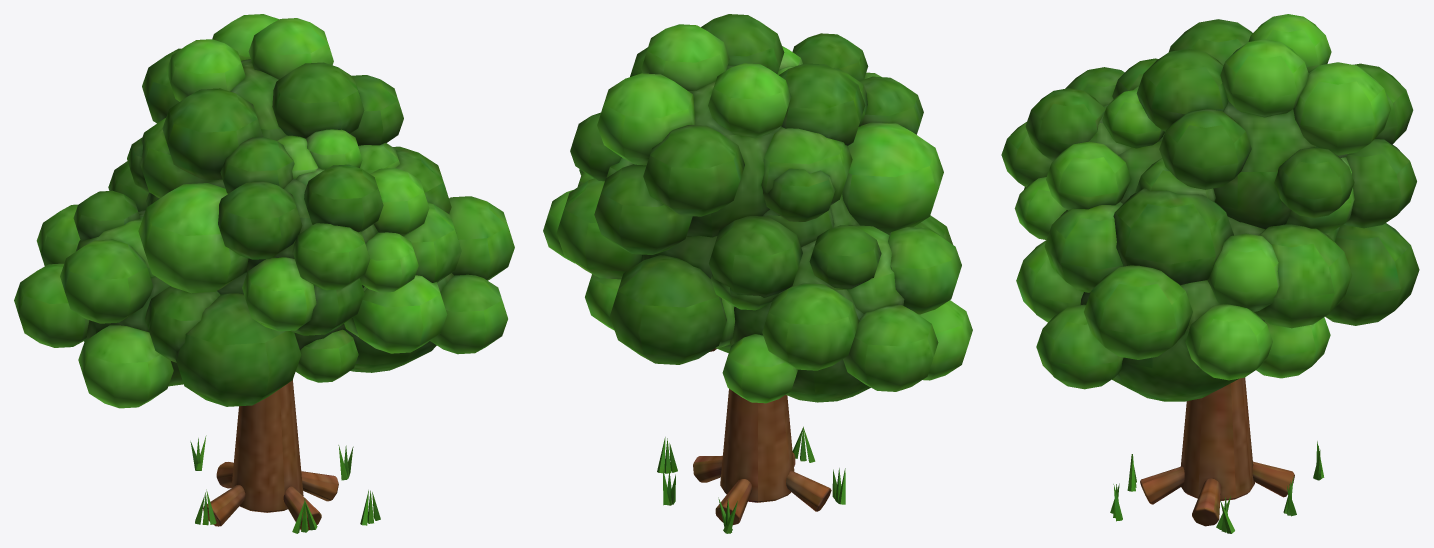
Rendered from hazelnut_tree.glb.
The picture shows the model from 3 angles, left to right: view 1: azimuth 30°, elevation 25°; view 2: azimuth 150°, elevation 25°; view 3: azimuth 270°, elevation 25°; orthographic projection. The views are drawn at different scales.
Visible parts, largest first — view 1: crown, hazelnut_tree; view 2: crown, hazelnut_tree; view 3: crown, hazelnut_tree.
Part boxes in pixels (x1,y1,x2,y2): crown: (14, 14, 514, 408); hazelnut_tree: (190, 380, 380, 533); crown: (543, 14, 972, 403); hazelnut_tree: (657, 348, 845, 533); crown: (1001, 14, 1419, 401); hazelnut_tree: (1110, 377, 1324, 533).
Size of the model in its own units: 1.17 by 1.24 by 0.9856.
1 material, 1 textured.
